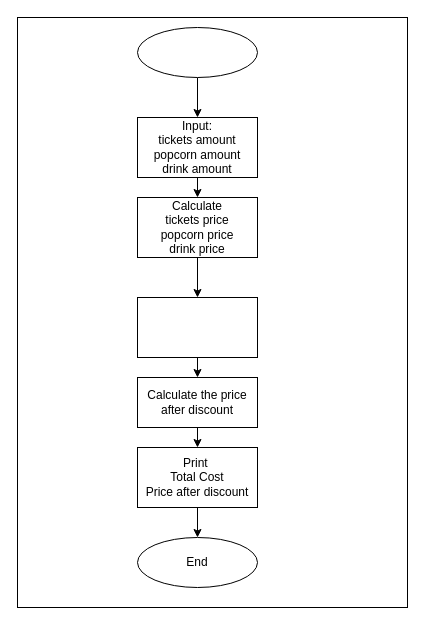
This 425x625 diagram has some shape labels left out. The centre of each missing label's shape, as x and y in pixels:
"Calculate the Total Cost" belongs at (197,327).
"Start" belongs at (197,52).
